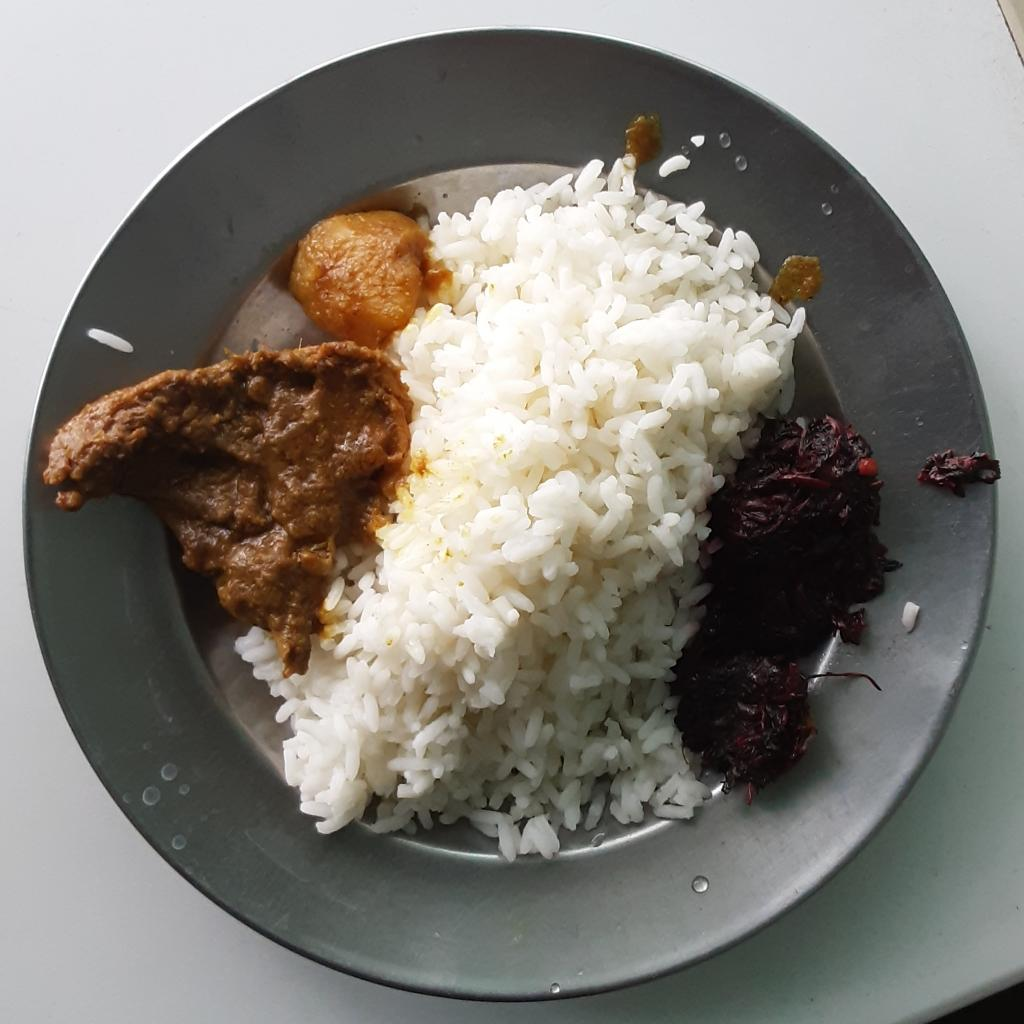chicken: (44, 340, 416, 686)
lal-shak: (670, 415, 908, 795)
potato: (286, 206, 426, 343)
rice: (240, 128, 806, 862)
